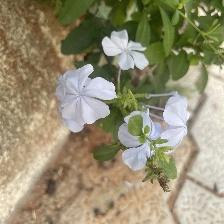chitrak: (51, 67, 115, 129), (101, 30, 151, 72)
